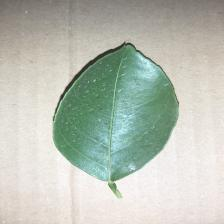healthy: (52, 42, 182, 184)
